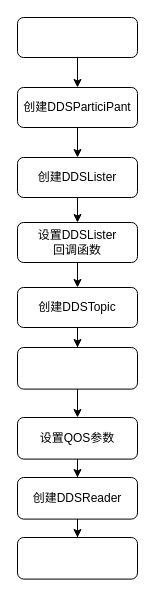
Image size: 155x605. Some labels were removed from this diagram. The centre of each missing label's shape, as x and y in pixels:
"创建QOS" goes at point (77, 367).
"删除QOS" goes at point (77, 557).
"设置DDS配置环境" goes at point (77, 37).
